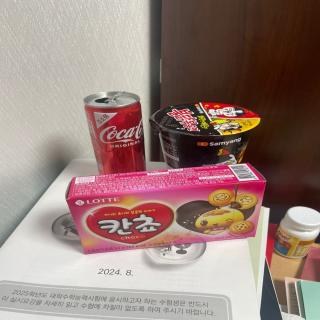cocacola: (77, 86, 156, 180)
